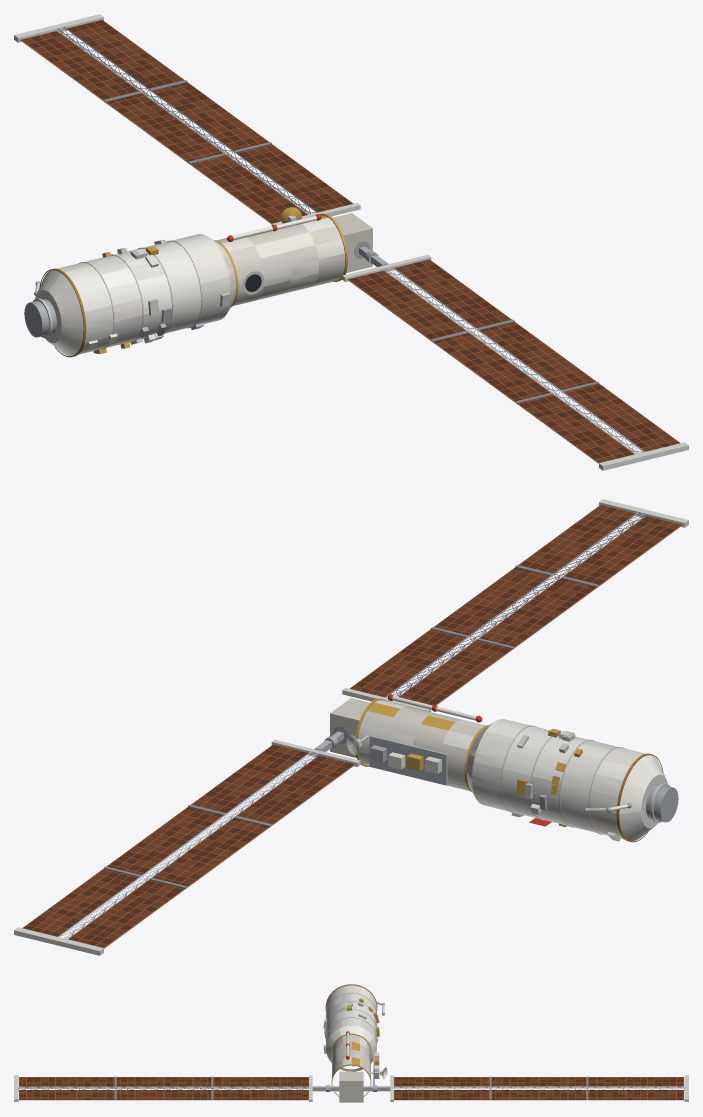
Rendered from wentian.glb.
3 views of the same model, one above another, from view 1: azimuth 30°, elevation 25°; view 2: azimuth 150°, elevation 25°; view 3: azimuth 270°, elevation 25° (orthographic). The views are drawn at different scales.
Visible parts, largest first — view 1: solar-panel, body, foil; view 2: solar-panel, body, foil; view 3: solar-panel, body, foil.
Part boxes in pixels (x1=…): solar-panel: x1=20, y1=20, x2=680, y2=463; body: x1=14, y1=14, x2=688, y2=470; foil: x1=35, y1=207, x2=372, y2=357; solar-panel: x1=22, y1=505, x2=682, y2=948; body: x1=14, y1=499, x2=688, y2=955; foil: x1=330, y1=698, x2=665, y2=842; solar-panel: x1=19, y1=1077, x2=683, y2=1099; body: x1=14, y1=985, x2=688, y2=1101; foil: x1=325, y1=984, x2=384, y2=1102.
Bounding box in the file's own units: 19.75 × 4.62 × 55.8.
